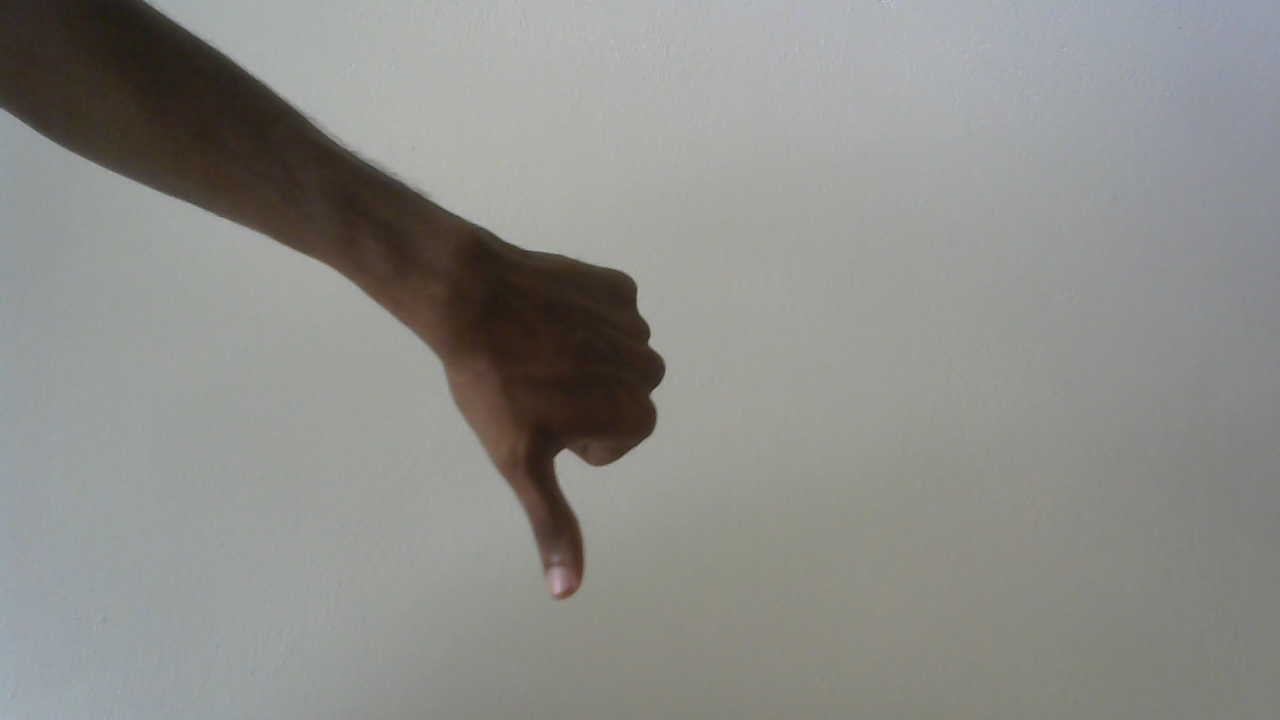thumbsdown: (429, 188, 700, 615)
